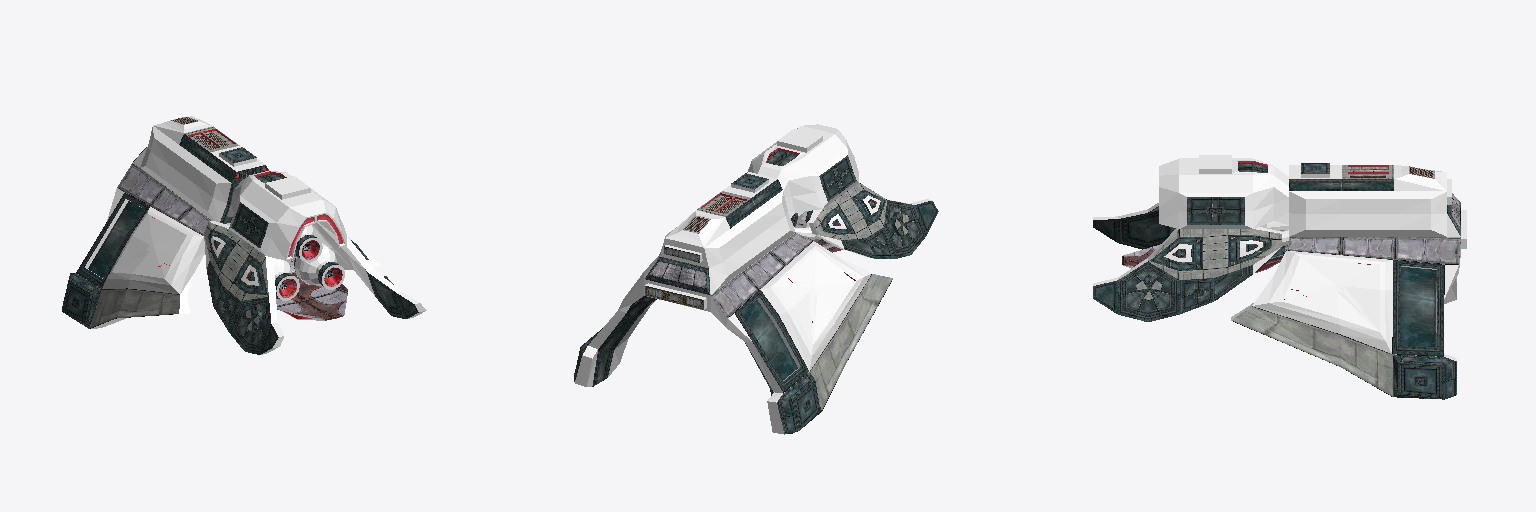
The picture shows the model from 3 angles: view 1: azimuth 30°, elevation 25°; view 2: azimuth 150°, elevation 25°; view 3: azimuth 270°, elevation 25°; orthographic projection.
Visible parts, largest first — view 1: Gunship; view 2: Gunship; view 3: Gunship.
Boxes of the visible parts, <box> form: Gunship: <box>62,116,426,354</box>; Gunship: <box>574,124,938,434</box>; Gunship: <box>1093,155,1466,399</box>.
Bounding box in the file's own units: 56.96 × 45.34 × 81.79.
Materials: 7 (6 with a texture image).